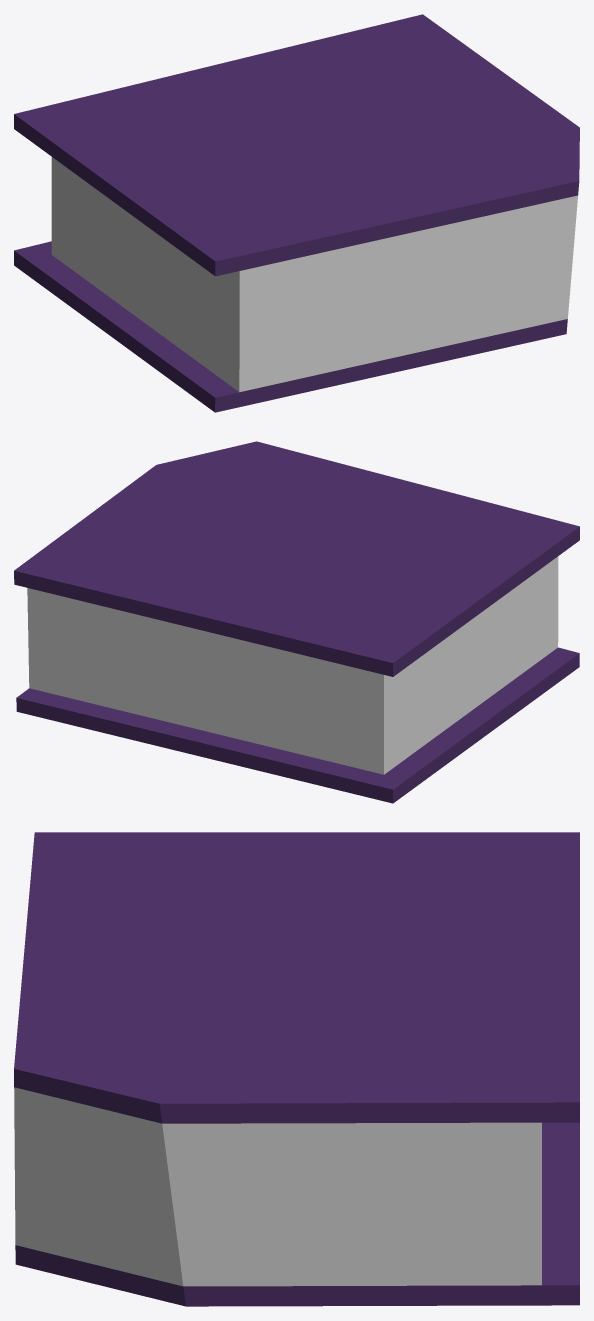
Rendered from Livre_Part_3.fbx.
3 renders of one model, top to bottom at view 1: azimuth 30°, elevation 25°; view 2: azimuth 150°, elevation 25°; view 3: azimuth 270°, elevation 25°, orthographic. The views are drawn at different scales.
Visible parts, largest first — view 1: Livre_Part_3; view 2: Livre_Part_3; view 3: Livre_Part_3.
Part boxes in pixels (box(x1,y1,x2,y2)): Livre_Part_3: box(14, 14, 579, 412); Livre_Part_3: box(14, 441, 579, 803); Livre_Part_3: box(14, 832, 579, 1306).
Size of the model in its own units: 17.76 by 6.26 by 15.66.
